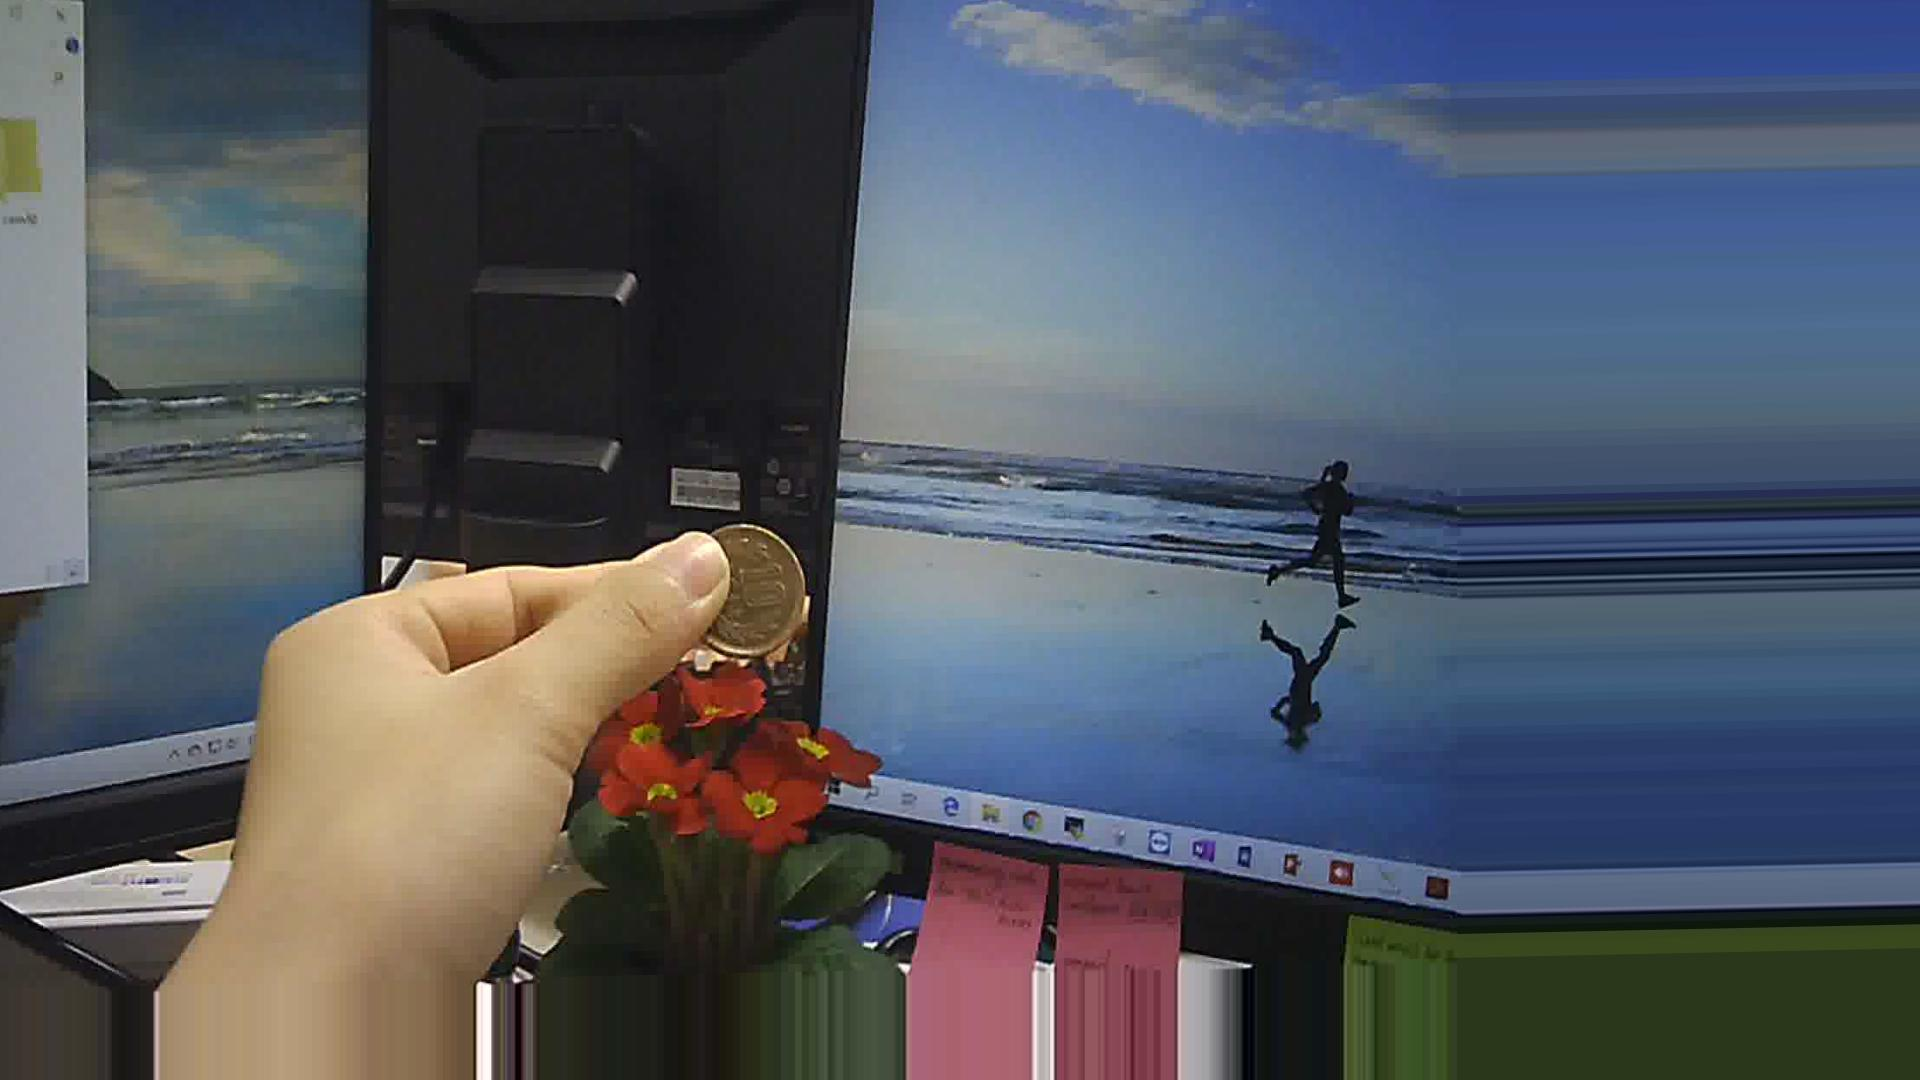10 Yen: (680, 508, 800, 651)
